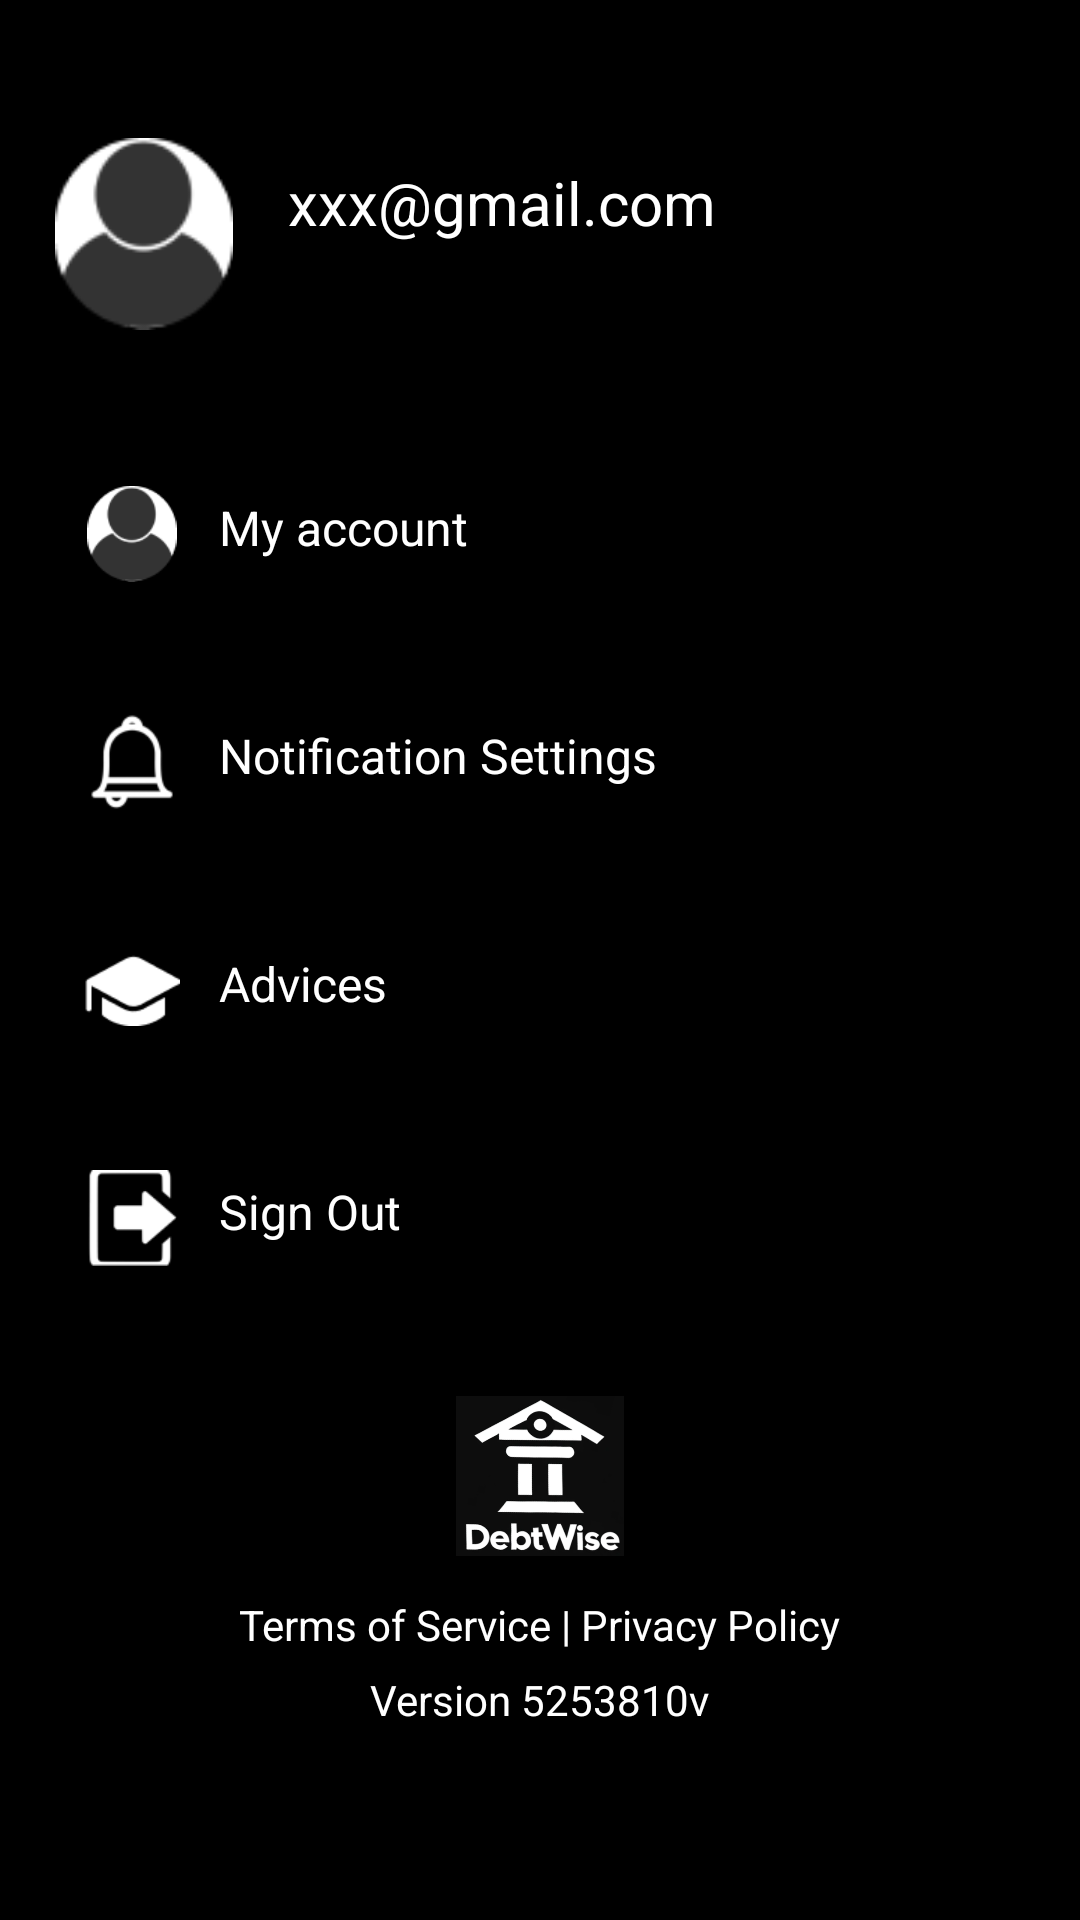

Screen size 1080 x 1920. Icon name, then its center in pixels as [x,y]:
Profile Picture: [144,234]
